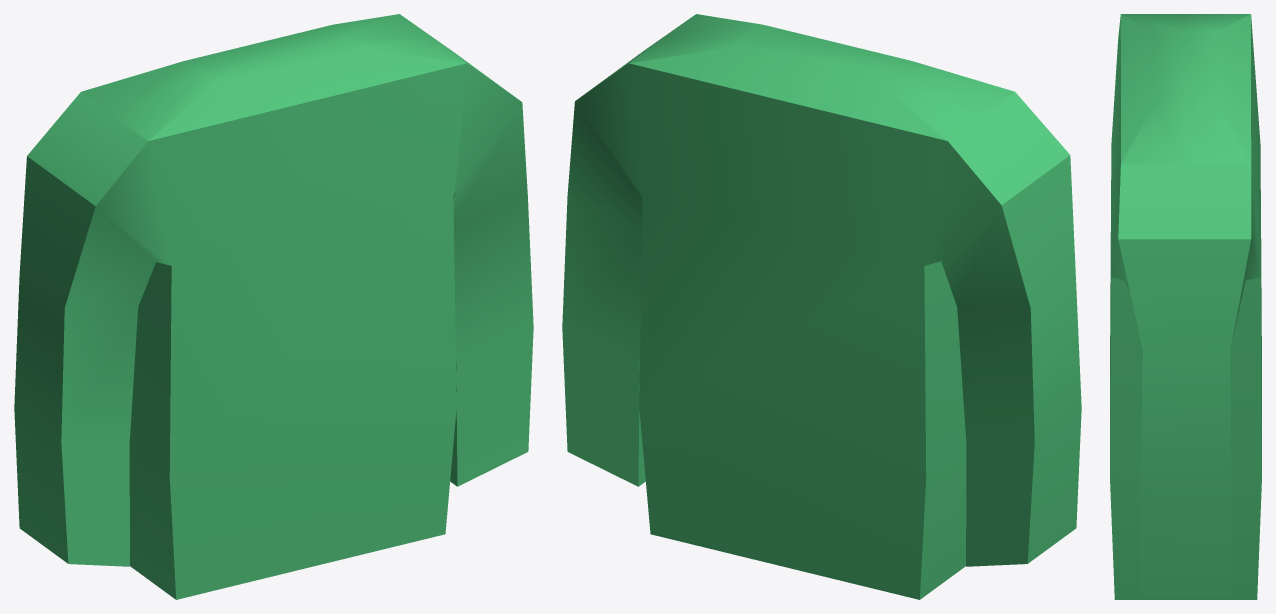
The model's file is colortorso.glb.
The picture shows the model from 3 angles, left to right: view 1: azimuth 30°, elevation 25°; view 2: azimuth 150°, elevation 25°; view 3: azimuth 270°, elevation 25°; orthographic projection. The views are drawn at different scales.
Visible parts, largest first — view 1: HOODIE; view 2: HOODIE; view 3: HOODIE.
Part boxes in pixels (bbox=[...]): HOODIE: bbox=[14, 14, 533, 599]; HOODIE: bbox=[562, 14, 1081, 599]; HOODIE: bbox=[1110, 14, 1261, 599].
Size of the model in its own units: 15.26 by 14.99 by 4.39.
